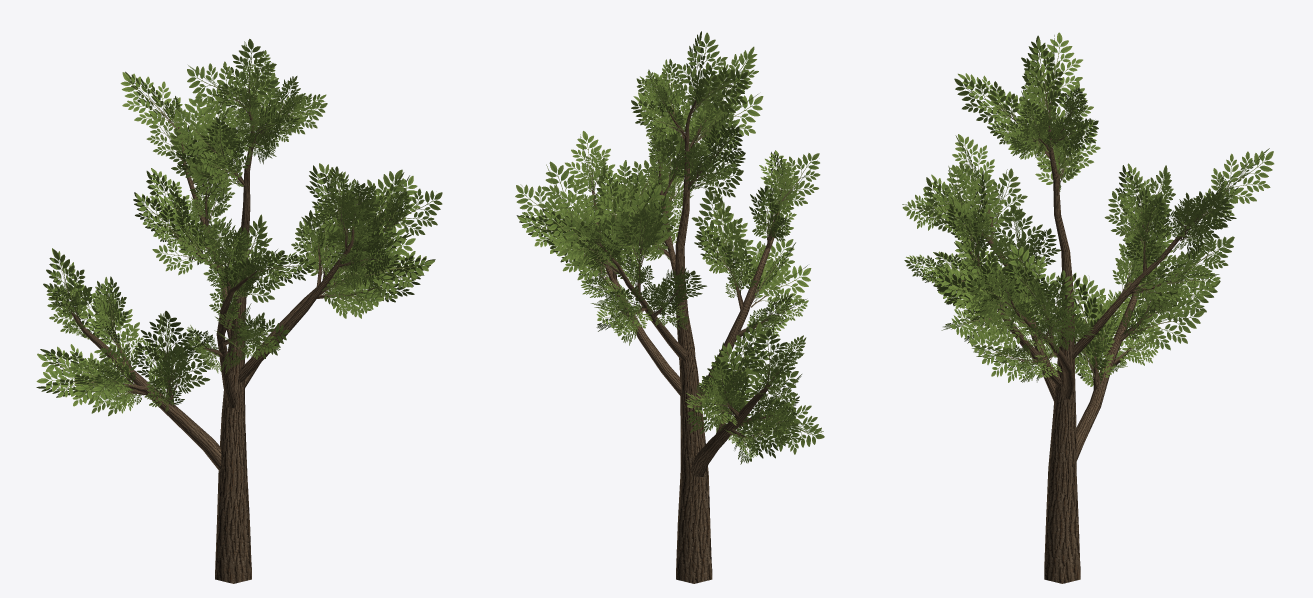
The model's file is low_poly_stylized_trees.glb.
3 views of the same model, side by side, from view 1: azimuth 30°, elevation 25°; view 2: azimuth 150°, elevation 25°; view 3: azimuth 270°, elevation 25° (orthographic).
Visible parts, largest first — view 1: leaves.001_0, trunk.001_1; view 2: leaves.001_0, trunk.001_1; view 3: leaves.001_0, trunk.001_1.
Boxes of the visible parts, <box> form: leaves.001_0: <box>36,39,442,416</box>; trunk.001_1: <box>71,96,389,583</box>; leaves.001_0: <box>515,31,824,464</box>; trunk.001_1: <box>591,97,779,583</box>; leaves.001_0: <box>902,32,1274,386</box>; trunk.001_1: <box>961,102,1205,583</box>.
Size of the model in its own units: 82.75 by 117 by 81.18.
2 materials, 2 textured.
